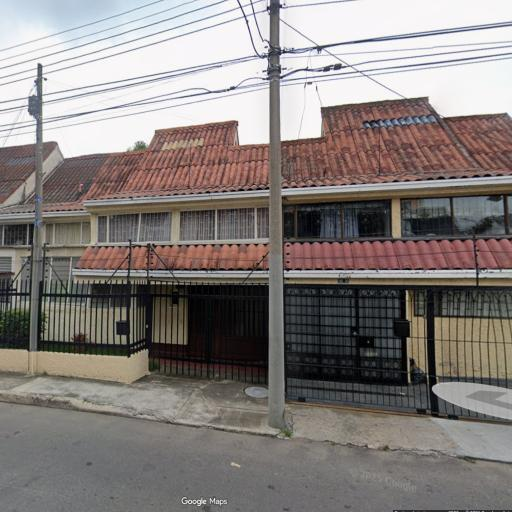Casa: (284, 94, 512, 424), (55, 126, 269, 389)
postes: (266, 2, 289, 447), (27, 63, 48, 381)
